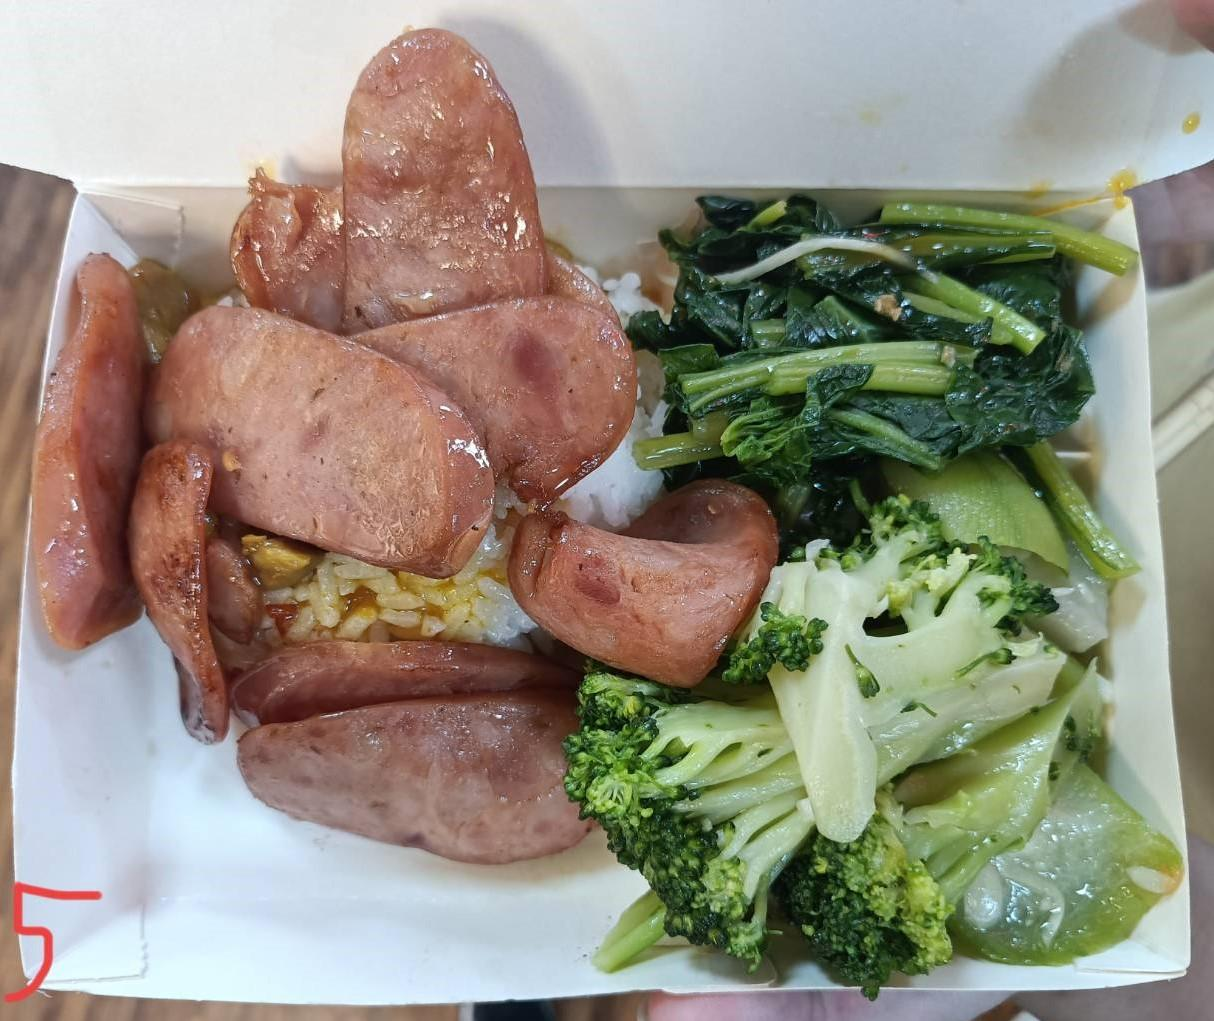big grilled chicken leg: (13, 163, 1209, 1006)
braised fish fillet: (587, 565, 1163, 972), (643, 198, 1099, 453)
